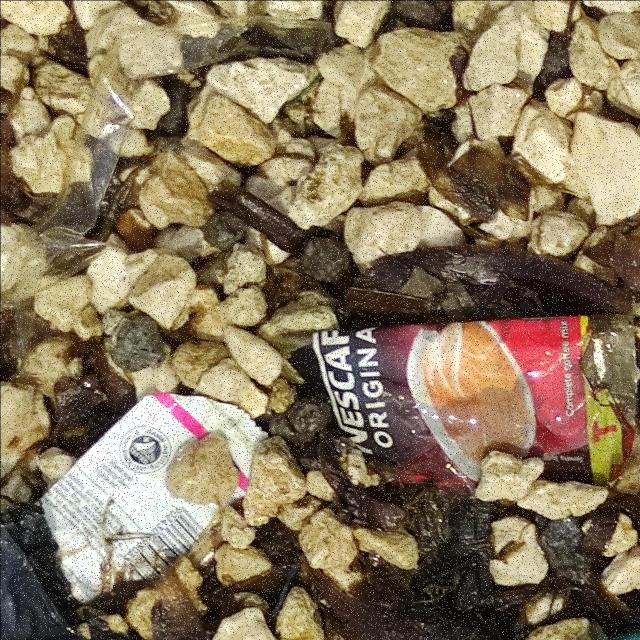plastic_waste: (312, 315, 638, 504), (32, 392, 290, 616)
